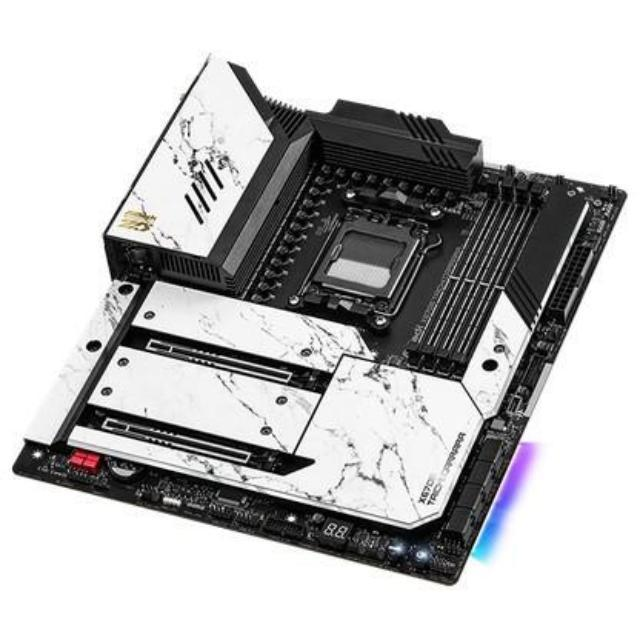Mainboard: (6, 50, 636, 590)
